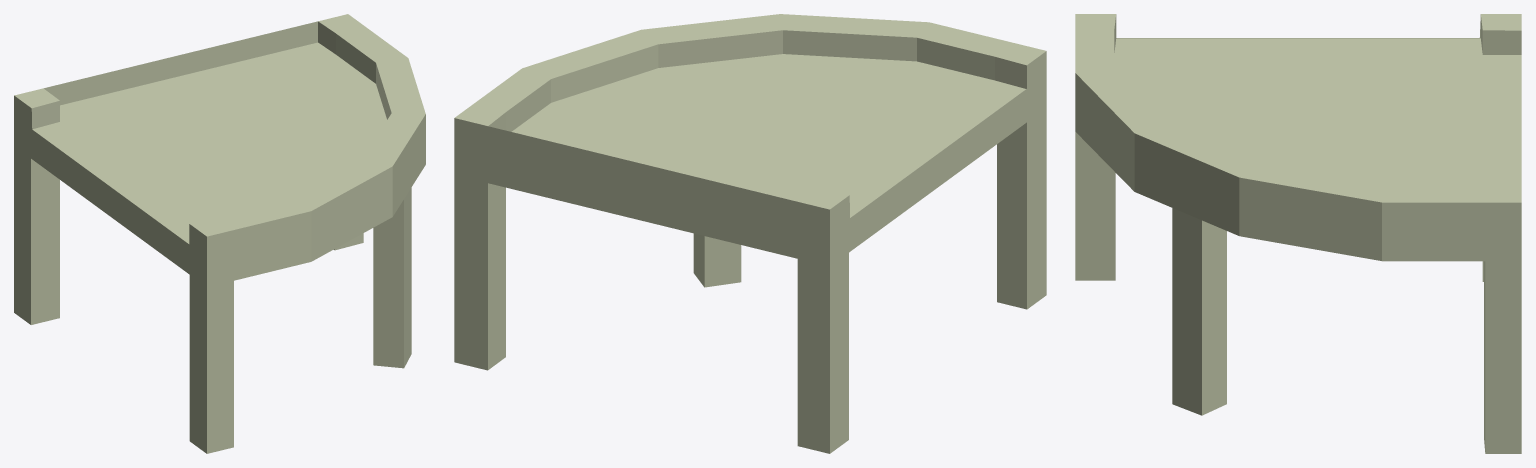
The model's file is ConveyorTurn01.obj.
3 renders of one model, left to right at view 1: azimuth 30°, elevation 25°; view 2: azimuth 150°, elevation 25°; view 3: azimuth 270°, elevation 25°, orthographic. The views are drawn at different scales.
Visible parts, largest first — view 1: Cube12; view 2: Cube12; view 3: Cube12.
Part boxes in pixels (<box>): Cube12: <box>14,14,425,453</box>; Cube12: <box>454,14,1046,453</box>; Cube12: <box>1075,14,1521,453</box>.
Size of the model in its own units: 1 by 0.6314 by 1.
